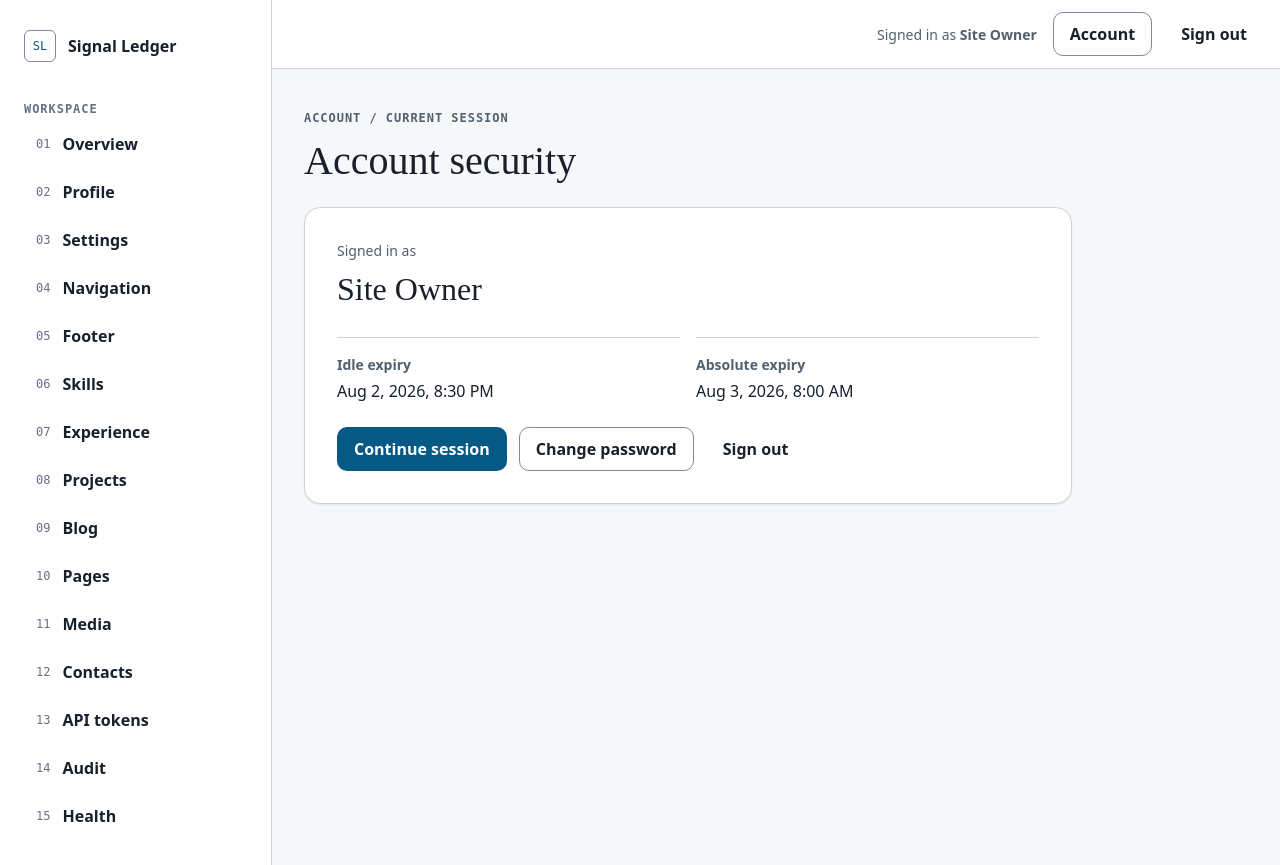
Scenario: administrator auth boundary › clears protected state when session refresh reports an authentication failure
Click the button "Continue session": (422, 449) [337,427,507,471]
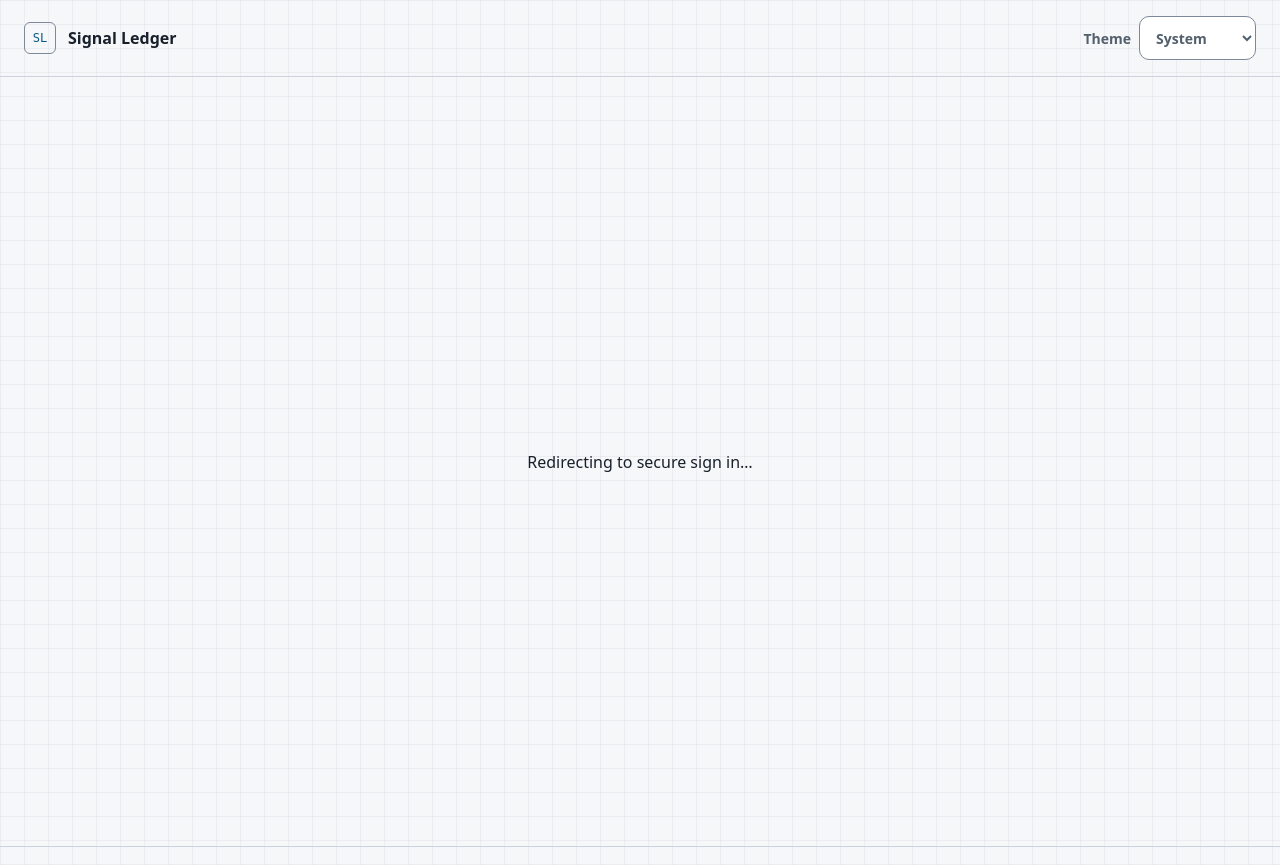
Now the heading "Account security" is gone
